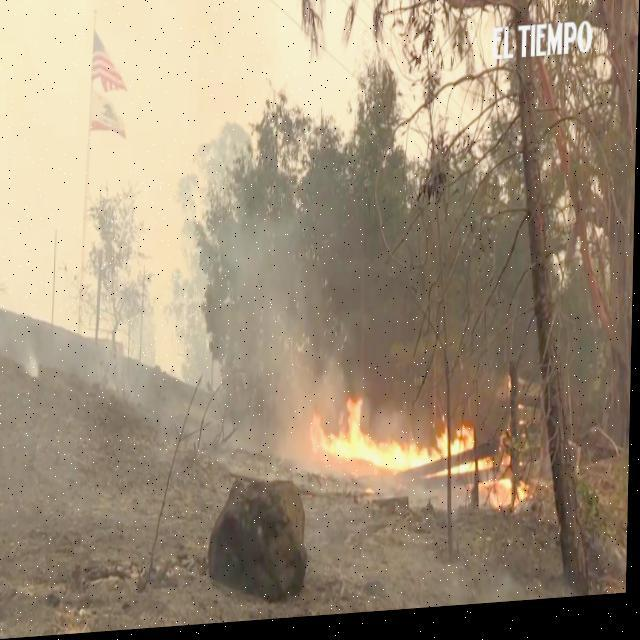Fire: (306, 383, 538, 528)
